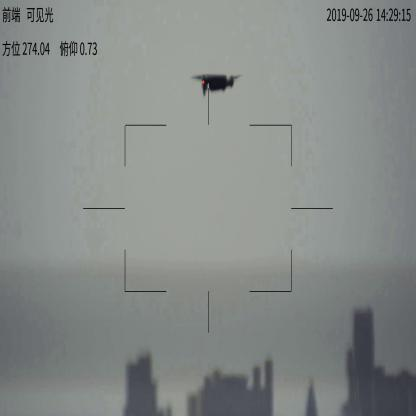uav: (191, 71, 243, 95)
